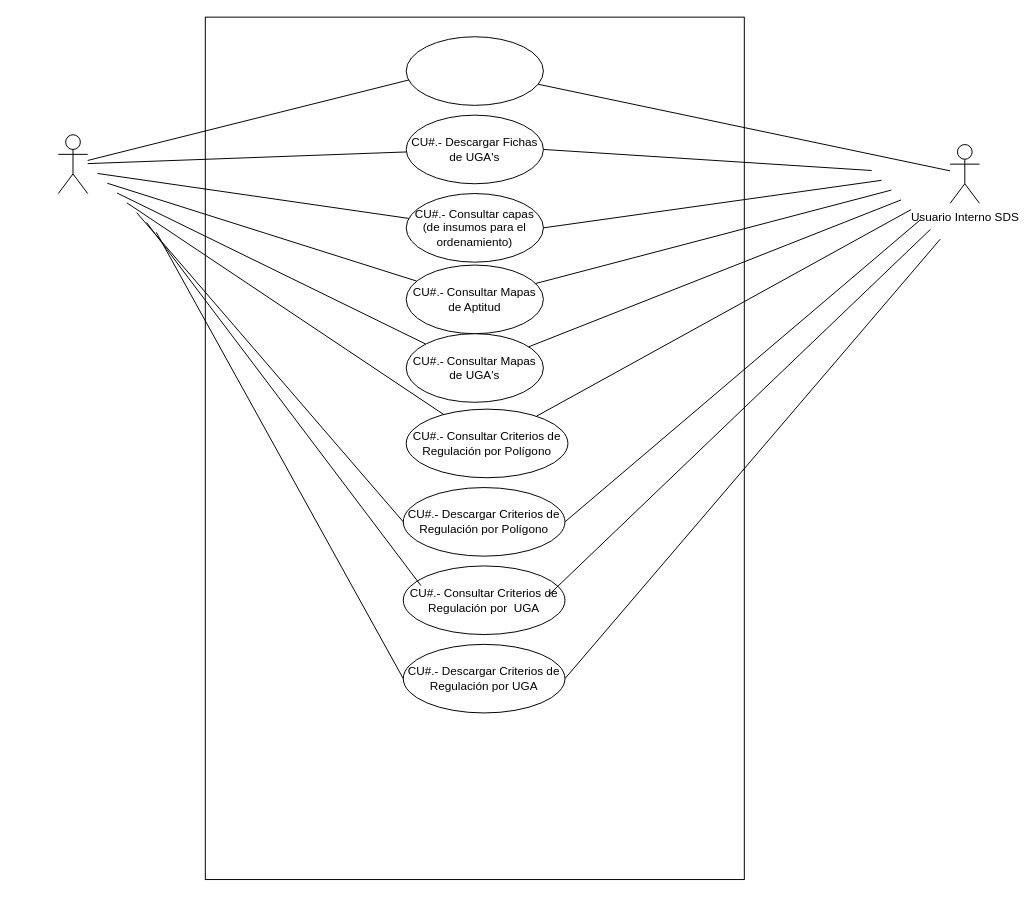
This 1036x897 diagram has some shape labels left out. Each missing label, with the centre of its shape:
CU#.- Consultar Fichas de UGA's: the point at 474,70
Usuario Externo SDS: the point at 72,164
